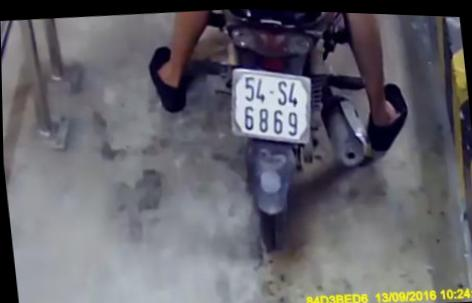LP: (228, 60, 318, 149)
